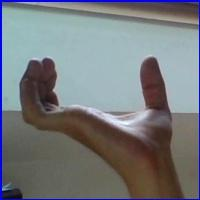B: (17, 43, 179, 175)
